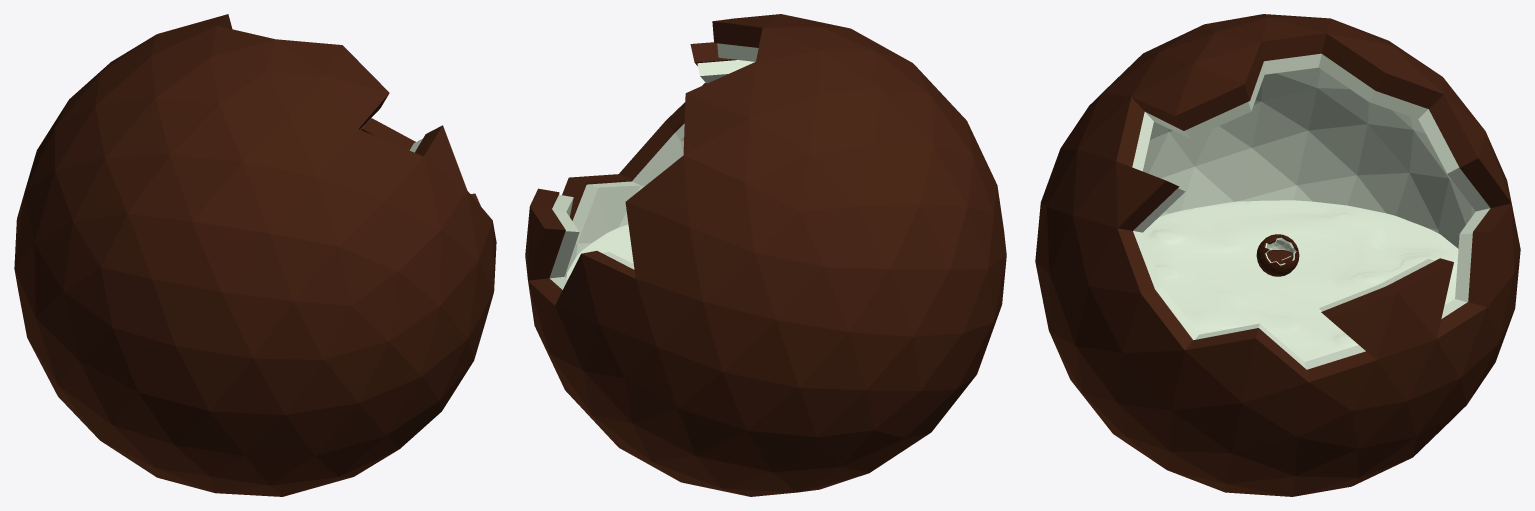
File: coconut1.fbx
3 renders of one model, left to right at view 1: azimuth 30°, elevation 25°; view 2: azimuth 150°, elevation 25°; view 3: azimuth 270°, elevation 25°, orthographic.
Parts seen in each view (by area): view 1: outside; view 2: outside, inside, liquid; view 3: outside, inside, liquid, coconut1.
Boxes of the visible parts, x1=… form: outside: x1=14, y1=14, x2=496, y2=496; outside: x1=525, y1=14, x2=1006, y2=496; inside: x1=549, y1=43, x2=758, y2=289; liquid: x1=566, y1=224, x2=633, y2=279; outside: x1=1035, y1=14, x2=1520, y2=496; inside: x1=1132, y1=53, x2=1490, y2=369; liquid: x1=1143, y1=200, x2=1458, y2=361; coconut1: x1=1256, y1=234, x2=1299, y2=276.
Size of the model in its own units: 198 by 199 by 200.
